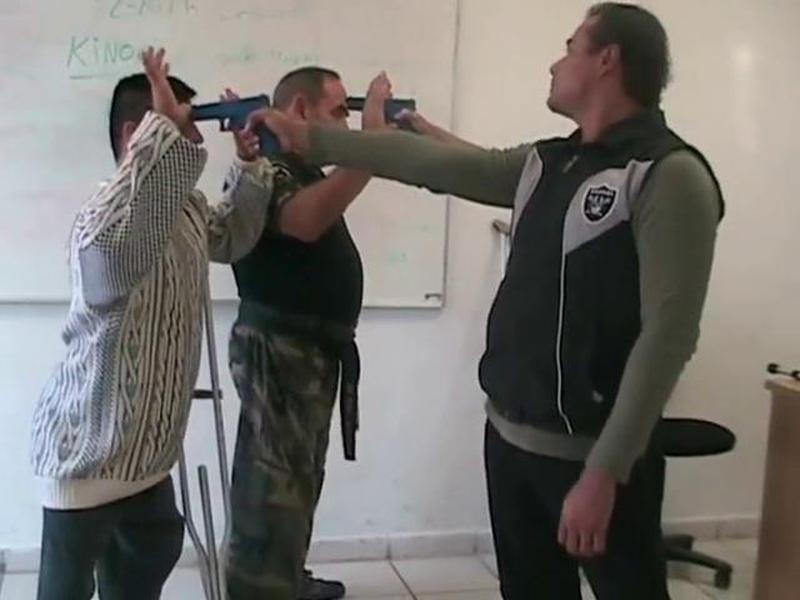Pistola: (185, 78, 277, 178)
